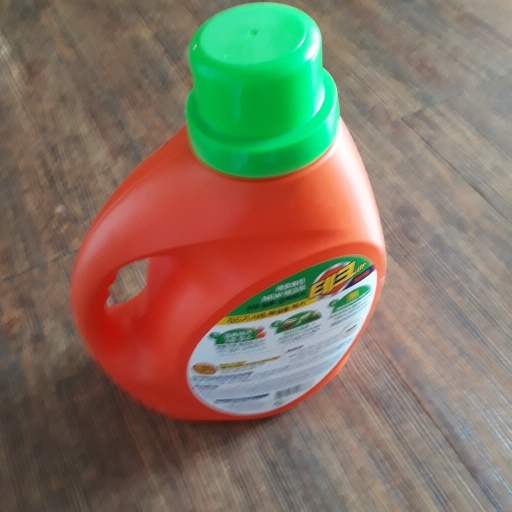Plastic_1: (74, 1, 389, 418)
